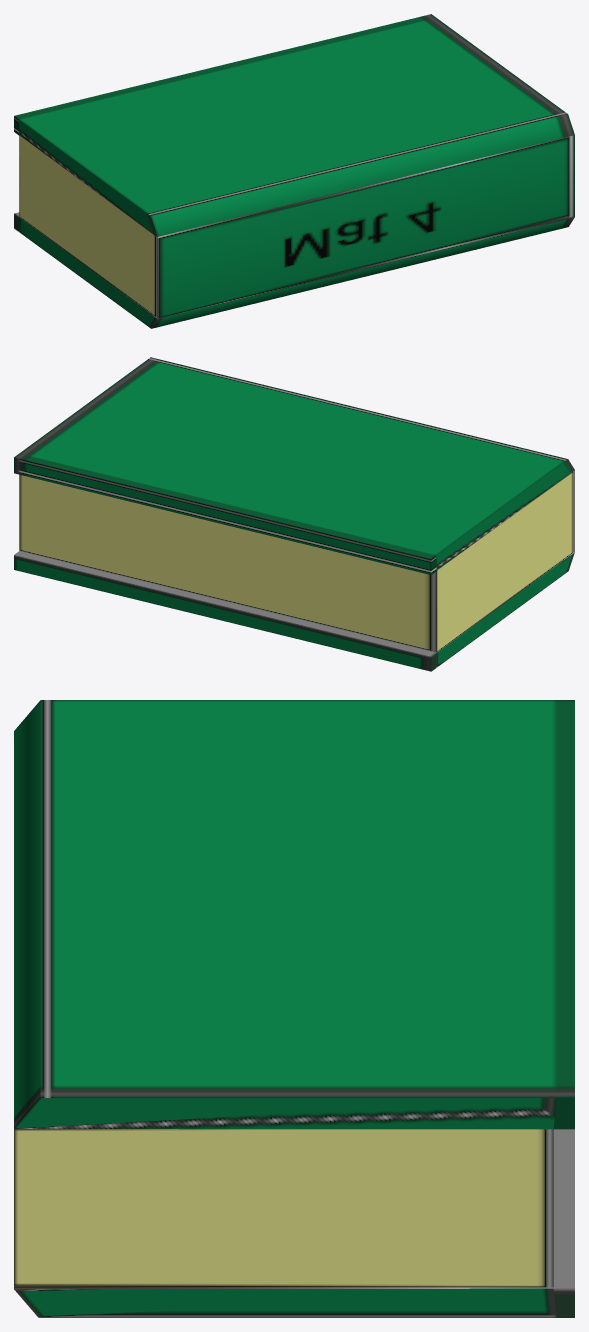
The model's file is TextbookClosed.fbx.
3 renders of one model, top to bottom at view 1: azimuth 30°, elevation 25°; view 2: azimuth 150°, elevation 25°; view 3: azimuth 270°, elevation 25°, orthographic. The views are drawn at different scales.
Visible parts, largest first — view 1: pCube2; view 2: pCube2; view 3: pCube2.
Part boxes in pixels (x1,y1,x2,y2): pCube2: [14, 14, 574, 328]; pCube2: [14, 357, 574, 671]; pCube2: [14, 700, 574, 1317].
Bounding box in the file's own units: 7.5 × 1.93 × 4.47.
